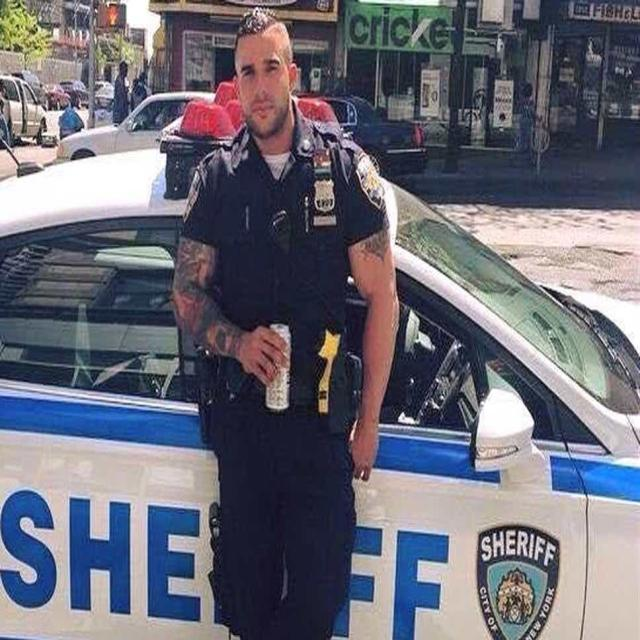police: (168, 0, 404, 554)
